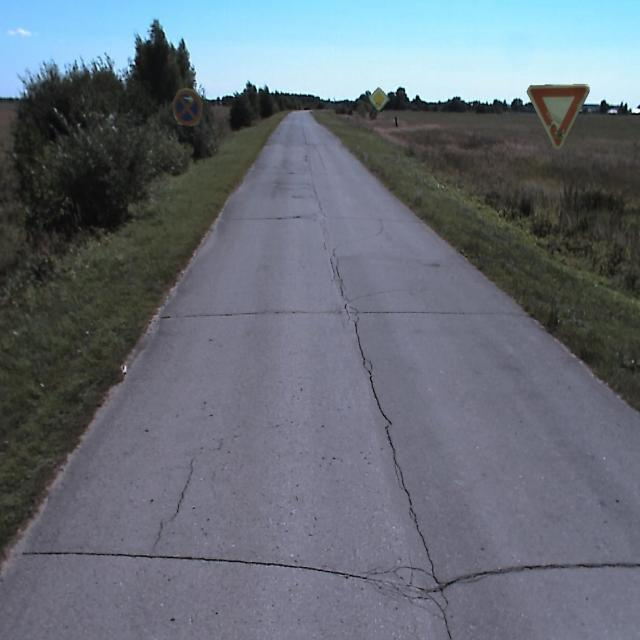road: (0, 111, 639, 639)
